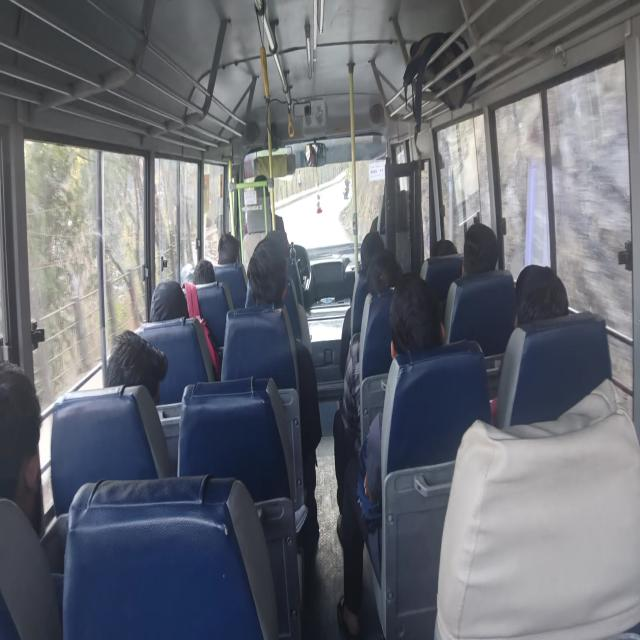person: (2, 359, 52, 522), (389, 272, 449, 370), (513, 253, 578, 340), (106, 330, 157, 397), (247, 240, 287, 300), (463, 224, 503, 283), (362, 248, 403, 300), (144, 271, 189, 317), (239, 170, 278, 222), (262, 221, 293, 264), (377, 174, 408, 210), (216, 228, 241, 270), (430, 232, 459, 268), (358, 230, 383, 264), (193, 259, 218, 289)
